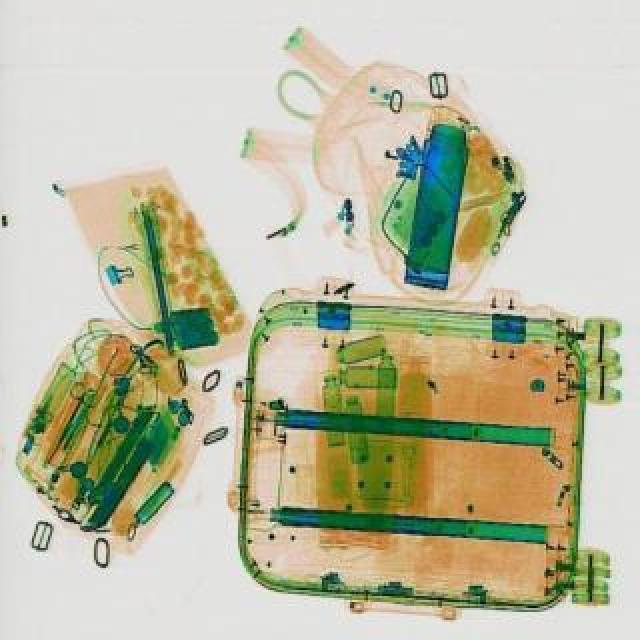pliers: (36, 378, 100, 466)
